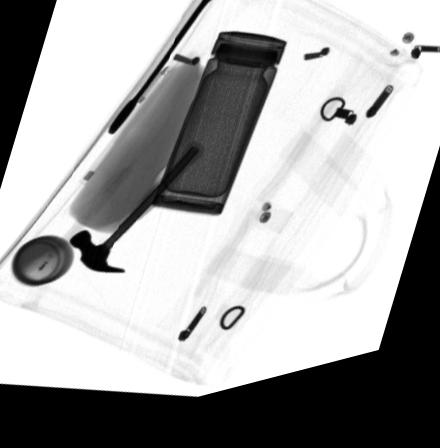Hammer: (68, 149, 203, 280)
Wrench: (106, 0, 223, 142)
